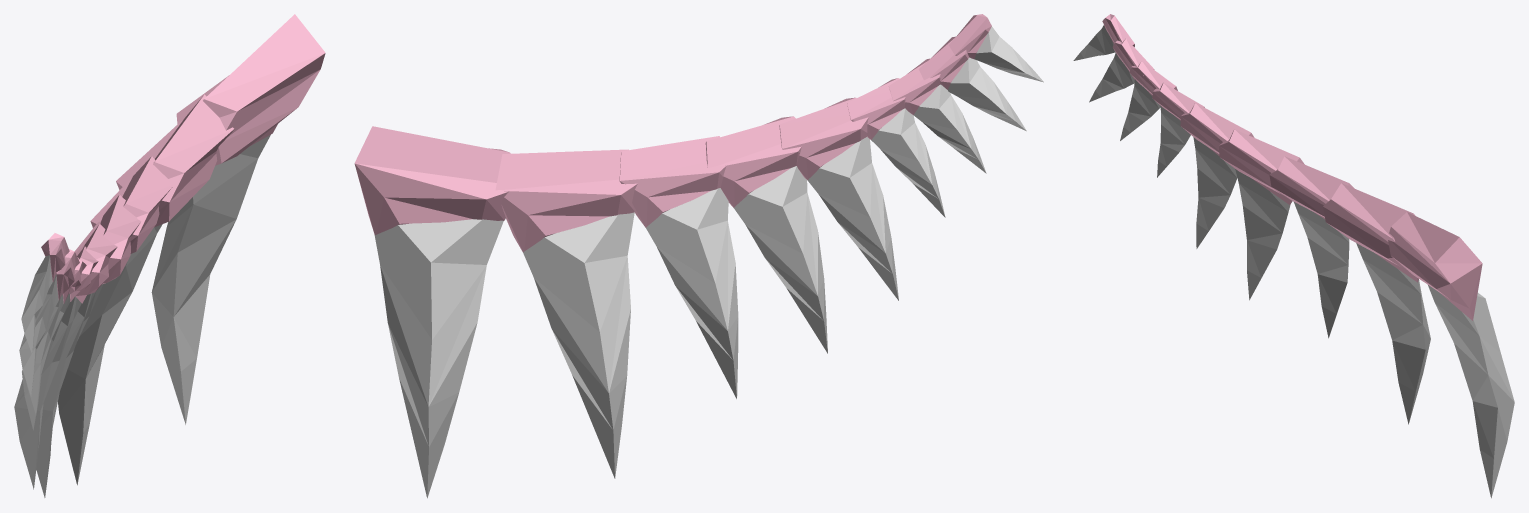
The model's file is Row Of Teeth.obj.
3 renders of one model, left to right at view 1: azimuth 30°, elevation 25°; view 2: azimuth 150°, elevation 25°; view 3: azimuth 270°, elevation 25°, orthographic. The views are drawn at different scales.
Parts seen in each view (by area): view 1: group1688784022, group1035787740, group2041456493, group46180860, group530824527, group160464841, group998101702, group2073799731, group1978742188, group2039307575, group583642357, group1527949928 (+4 smaller); view 2: group1688784022, group2041456493, group1035787740, group46180860, group1513417120, group998101702, group530824527, group160464841, group2073799731, group583642357, group1348373432, group1527949928 (+6 smaller); view 3: group1688784022, group1035787740, group2041456493, group46180860, group998101702, group1513417120, group530824527, group160464841, group2073799731, group583642357, group1348373432, group1527949928 (+6 smaller).
Part boxes in pixels (x1,y1,x2,y2): group1688784022: [151, 135, 270, 424]; group1035787740: [176, 14, 325, 165]; group2041456493: [58, 224, 162, 485]; group46180860: [116, 94, 233, 226]; group530824527: [14, 296, 81, 489]; group160464841: [90, 156, 172, 253]; group998101702: [36, 292, 95, 497]; group2073799731: [75, 194, 141, 284]; group1978742188: [19, 274, 58, 396]; group2039307575: [21, 255, 52, 354]; group583642357: [75, 224, 117, 303]; group1527949928: [26, 293, 63, 415]; group1688784022: [374, 219, 503, 498]; group2041456493: [523, 212, 634, 478]; group1035787740: [354, 126, 510, 235]; group46180860: [495, 149, 637, 252]; group1513417120: [646, 188, 738, 398]; group998101702: [734, 166, 827, 353]; group530824527: [807, 137, 898, 300]; group160464841: [619, 136, 726, 227]; group2073799731: [705, 116, 801, 207]; group583642357: [779, 97, 868, 180]; group1348373432: [871, 108, 945, 217]; group1527949928: [913, 84, 986, 173]; group1688784022: [1428, 285, 1514, 498]; group1035787740: [1388, 212, 1482, 320]; group2041456493: [1356, 243, 1430, 424]; group46180860: [1323, 183, 1418, 282]; group998101702: [1235, 169, 1290, 300]; group1513417120: [1294, 202, 1349, 338]; group530824527: [1193, 137, 1237, 248]; group160464841: [1269, 156, 1354, 219]; group2073799731: [1219, 129, 1304, 204]; group583642357: [1180, 103, 1254, 168]; group1348373432: [1157, 105, 1190, 177]; group1527949928: [1120, 79, 1160, 140].
Bounding box in the file's own units: 0.9088 × 0.7566 × 0.8765.
